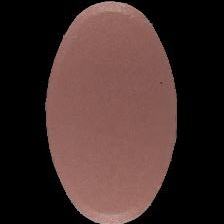51660-142: (0, 0, 224, 224)
